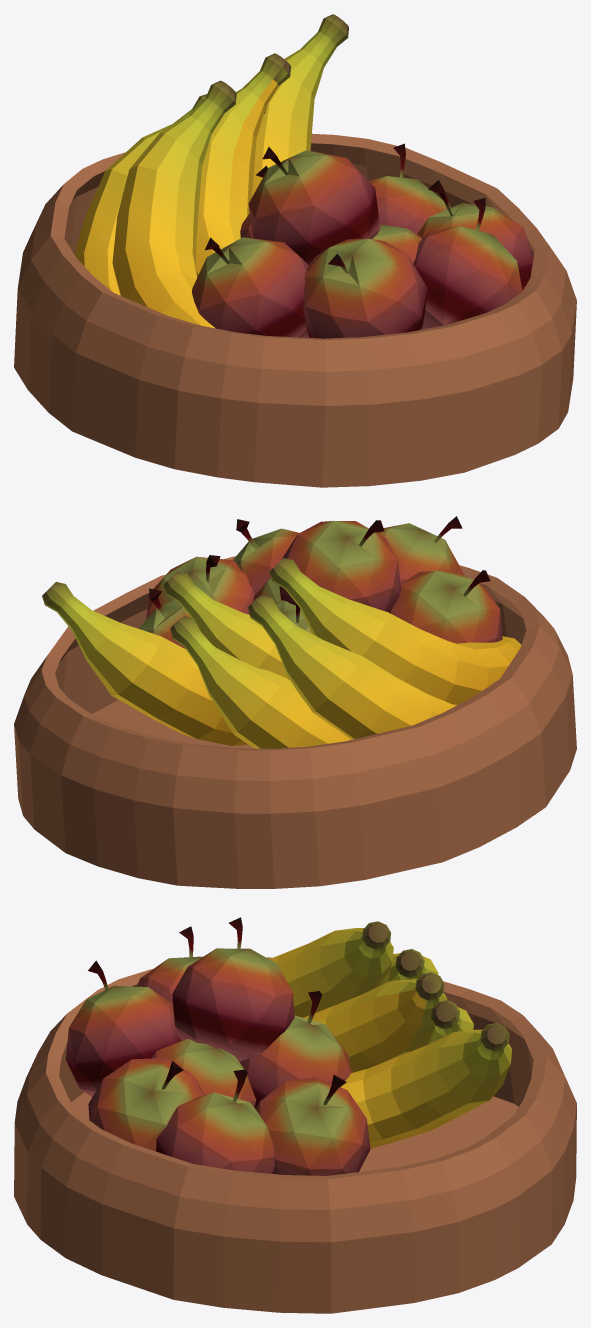
The model's file is frut.fbx.
3 renders of one model, top to bottom at view 1: azimuth 30°, elevation 25°; view 2: azimuth 150°, elevation 25°; view 3: azimuth 270°, elevation 25°, orthographic. The views are drawn at different scales.
Parts seen in each view (by area): view 1: Icosphere.008; view 2: Icosphere.008; view 3: Icosphere.008.
Part boxes in pixels (x1,y1,x2,y2): Icosphere.008: (14,14,576,487); Icosphere.008: (14,516,576,888); Icosphere.008: (14,917,576,1313).
Bounding box in the file's own units: 0.3178 × 0.2016 × 0.3369.
Materials: 3 (2 with a texture image).
